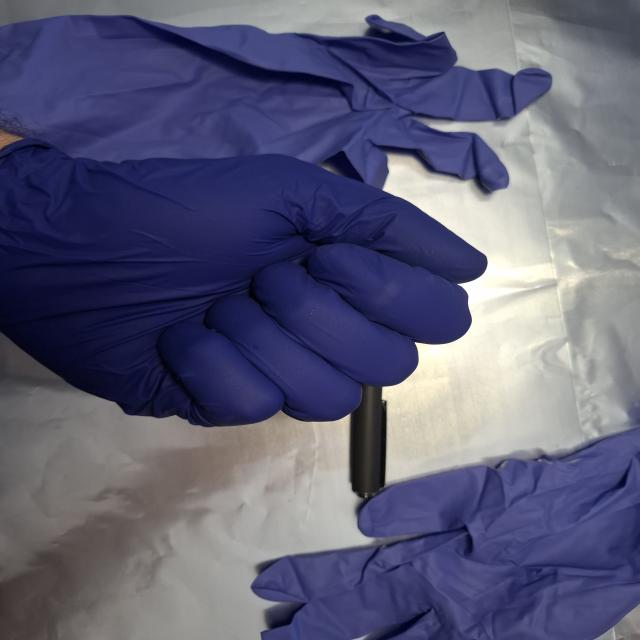glove_on: (0, 130, 492, 430)
